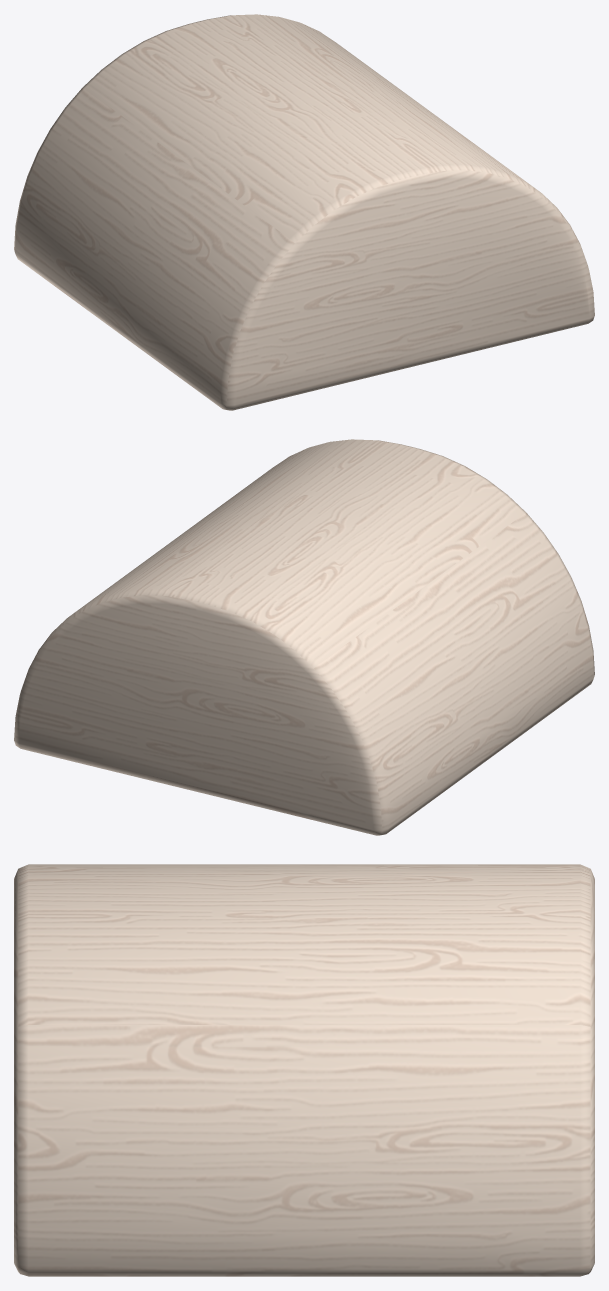
Rendered from Tile_Round.fbx.
3 renders of one model, top to bottom at view 1: azimuth 30°, elevation 25°; view 2: azimuth 150°, elevation 25°; view 3: azimuth 270°, elevation 25°, orthographic. The views are drawn at different scales.
Visible parts, largest first — view 1: Cube; view 2: Cube; view 3: Cube.
Part boxes in pixels (bbox=[...]): Cube: bbox=[14, 14, 594, 410]; Cube: bbox=[14, 439, 594, 835]; Cube: bbox=[14, 864, 594, 1276].
Bounding box in the file's own units: 200 × 100 × 200.
